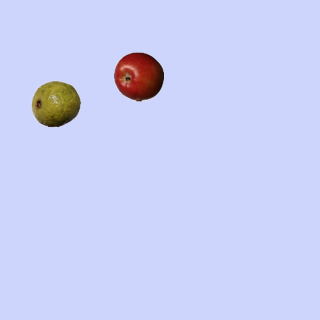Apple Braeburn: (113, 51, 163, 101)
Guava: (30, 78, 80, 128)
